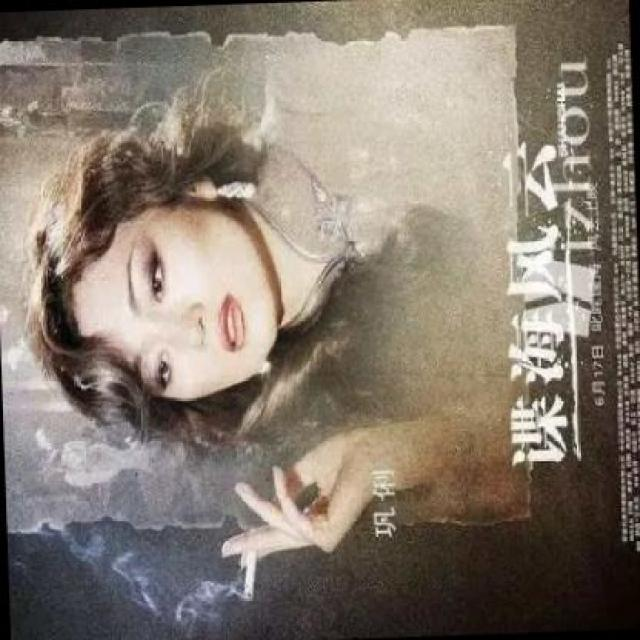cigarette: (240, 533, 263, 601)
